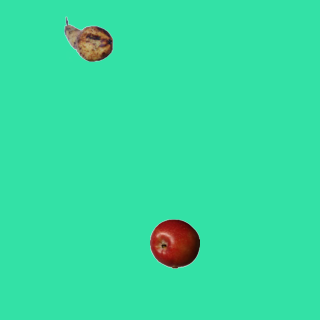Apple Braeburn: (149, 218, 199, 268)
Pear Abate: (63, 14, 113, 64)
